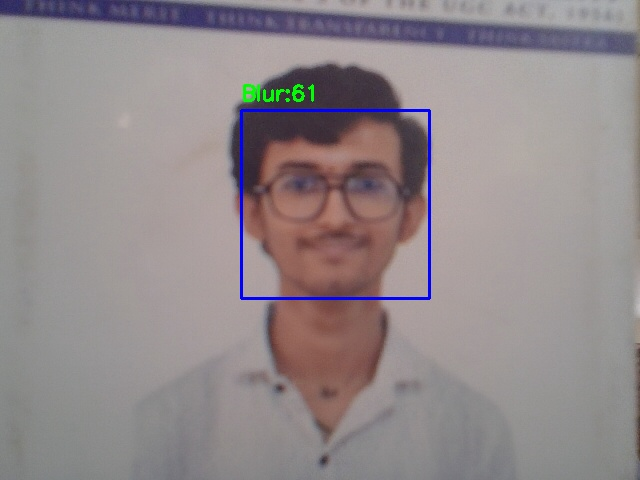fake: (241, 110, 429, 298)
